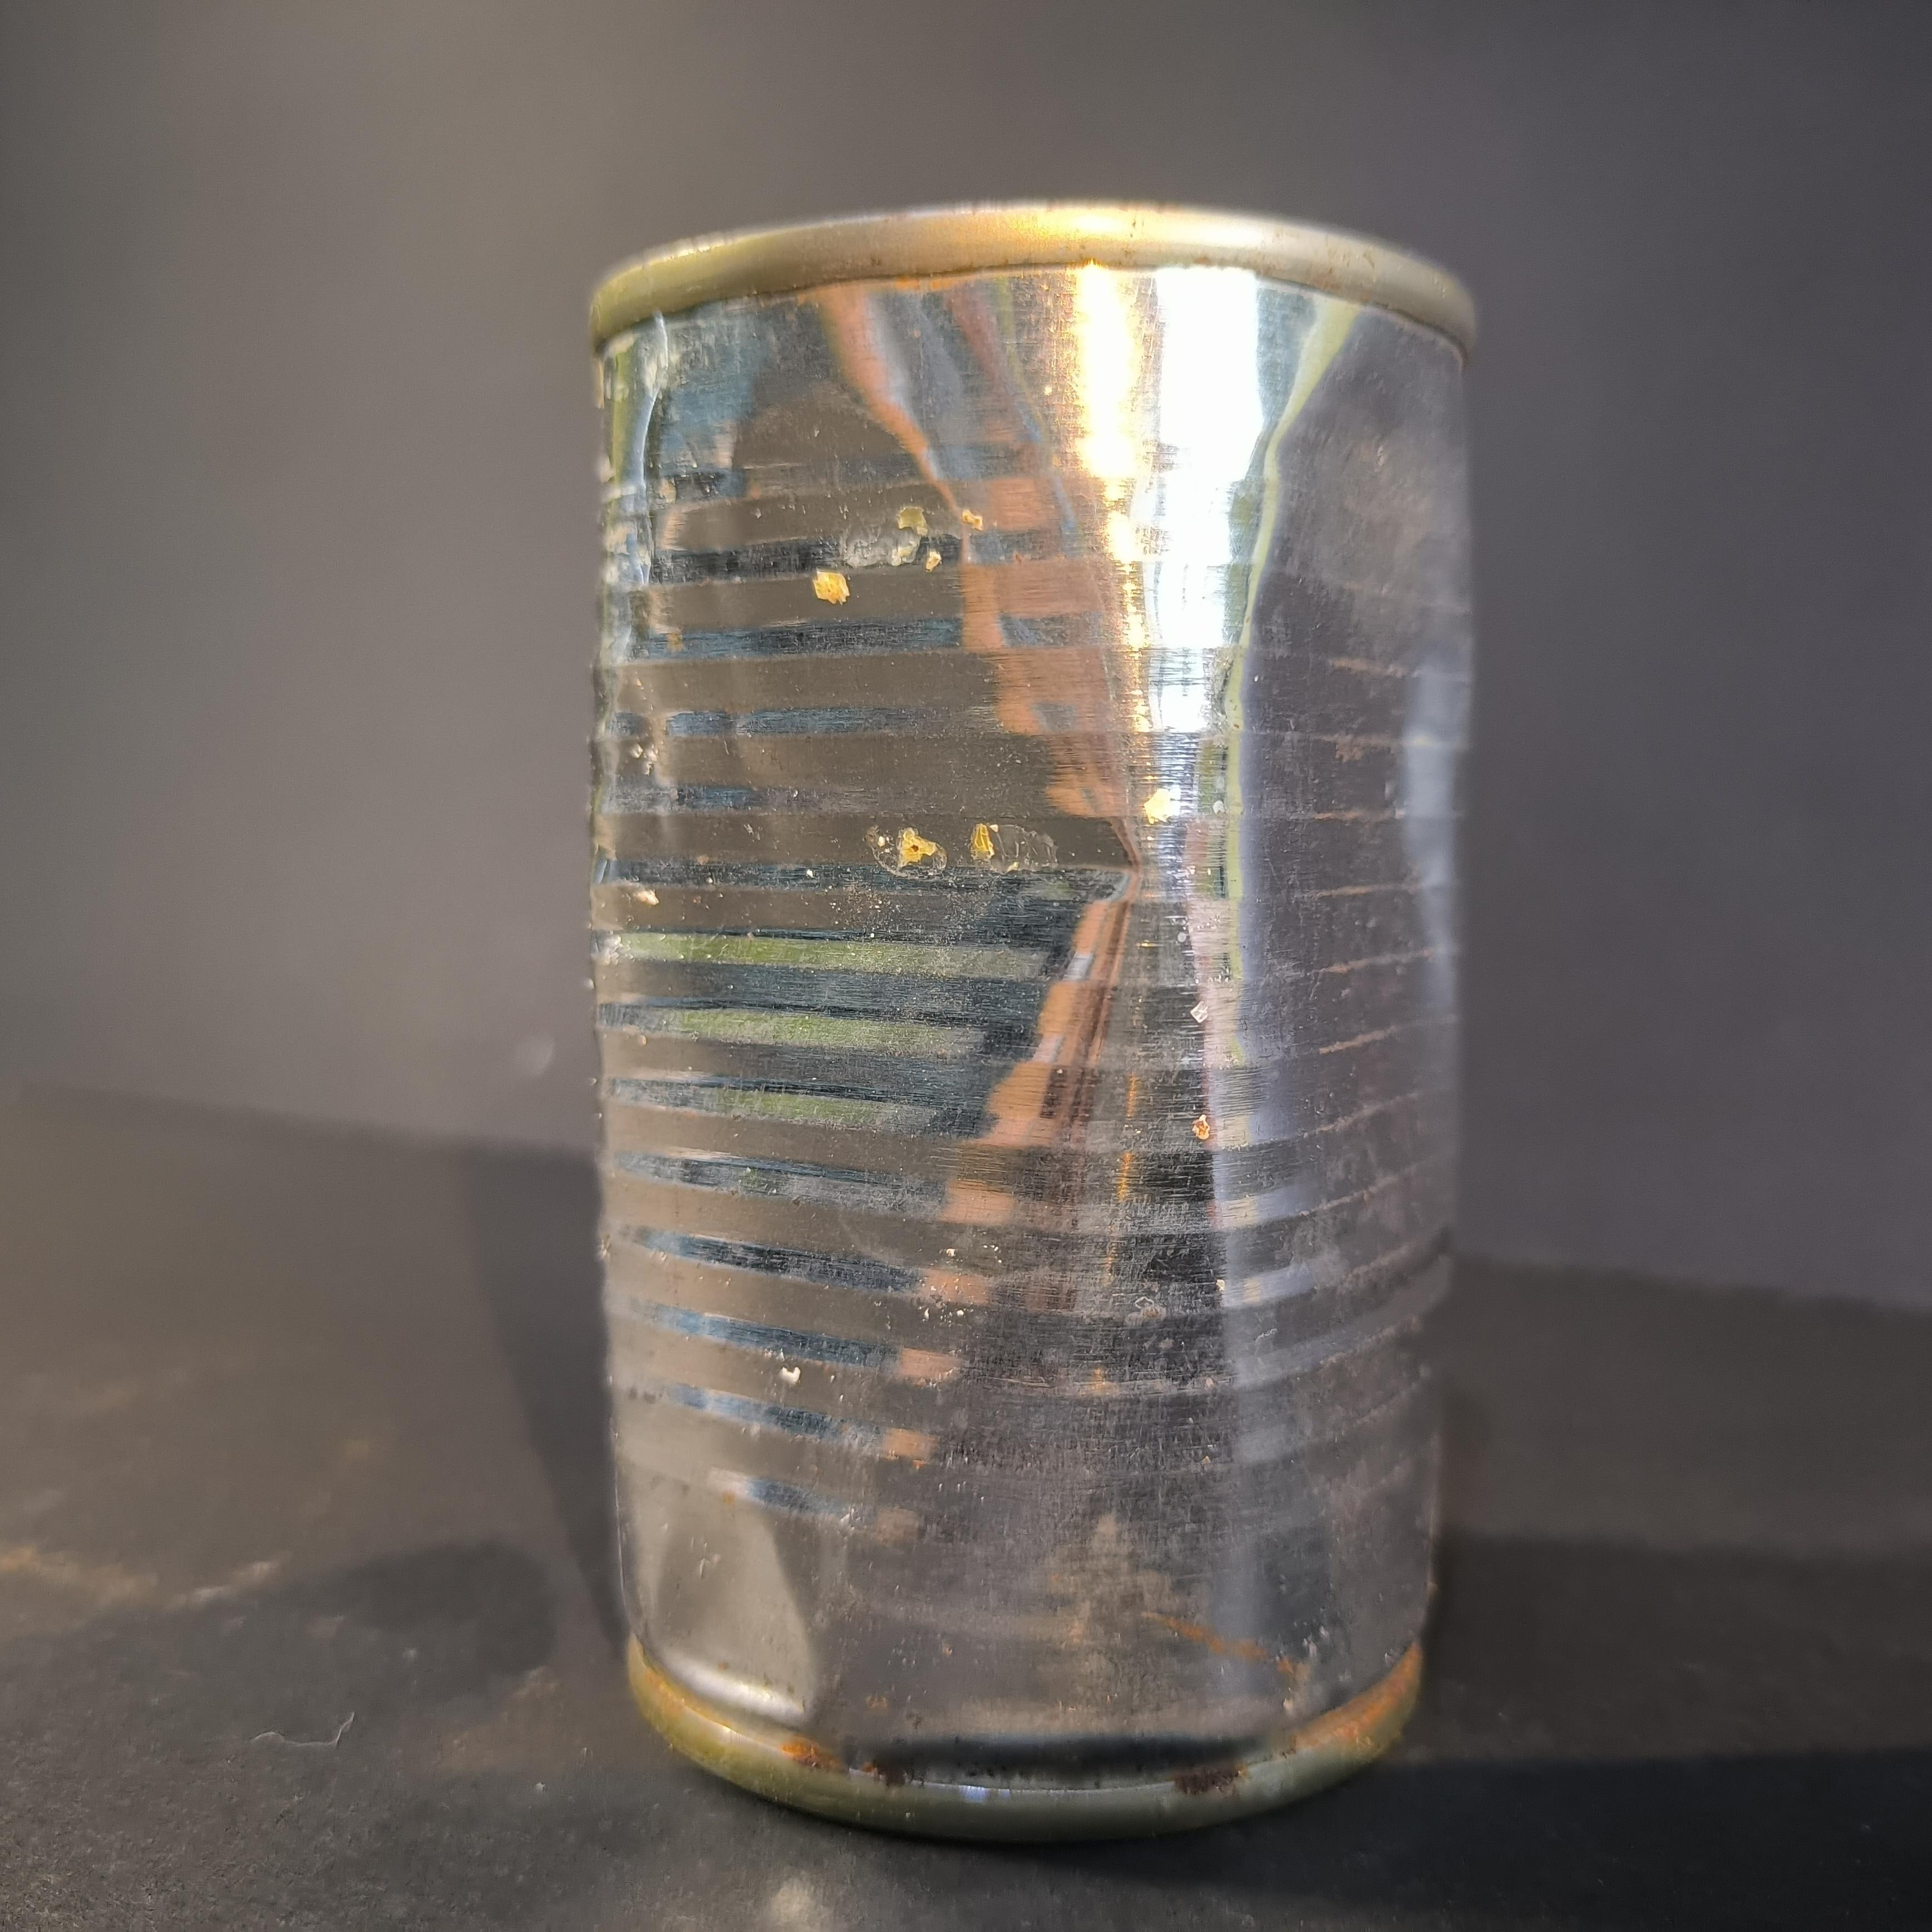Dented: (540, 165, 1467, 1819)
